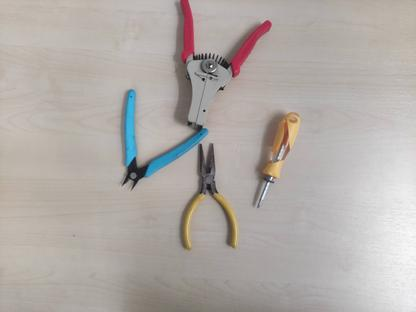Screwdriver: (251, 110, 302, 209)
